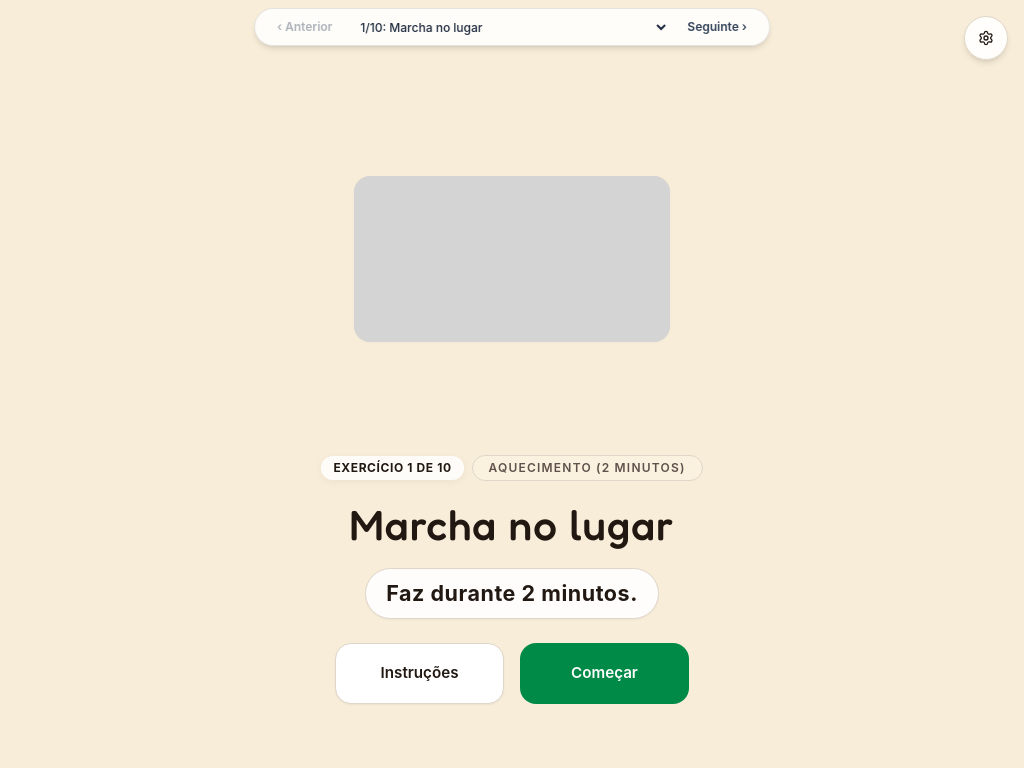
Test case: exercise programme › drops the pending advance when the child leaves mid-hold
Click the button "Começar".
click(604, 673)  # box [520,643,689,704]
Wait 123200 ms
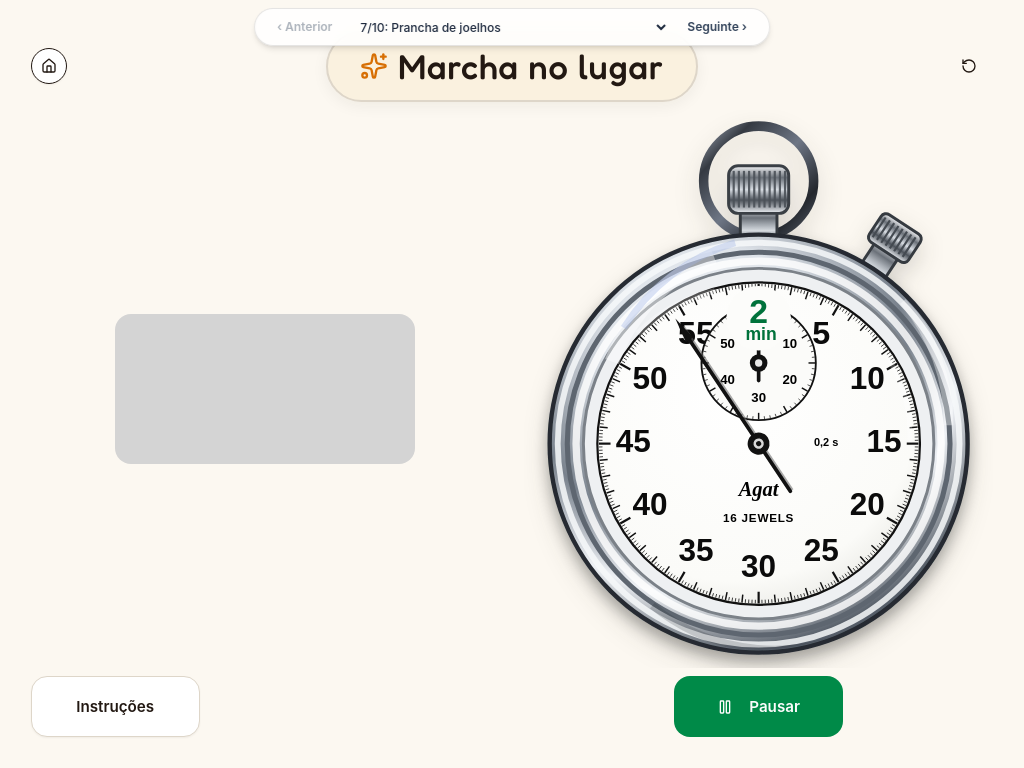
Select "7/10: Prancha de joelhos" in the dropdown named "selecionar exercício" at (510, 27), box [350,16,669,38]
Wait 2800 ms
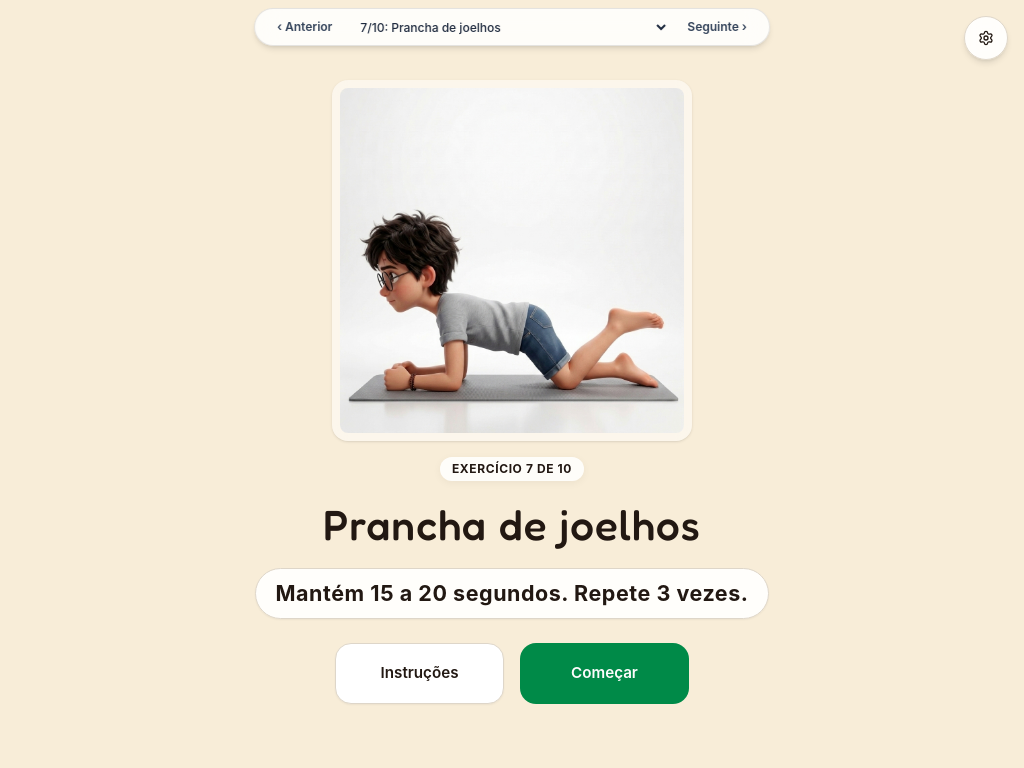
Result: the heading "Prancha de joelhos" is shown at [323,493,701,556]
